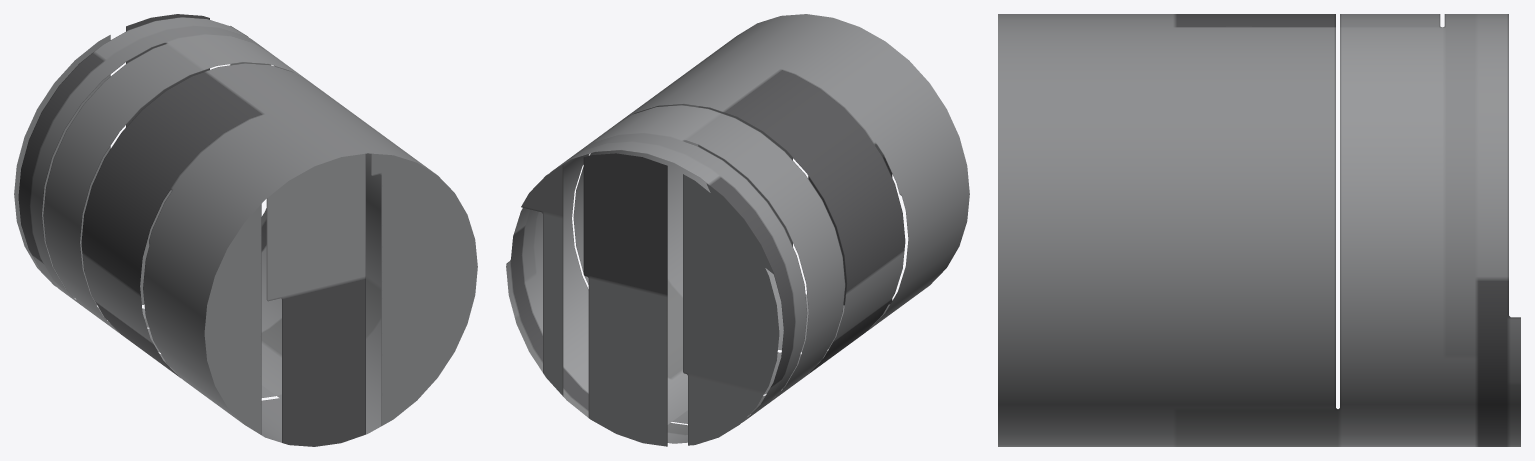
3 renders of one model, left to right at view 1: azimuth 30°, elevation 25°; view 2: azimuth 150°, elevation 25°; view 3: azimuth 270°, elevation 25°, orthographic. The views are drawn at different scales.
Bounding box in the file's own units: 0.6644 × 0.6644 × 0.8015.
